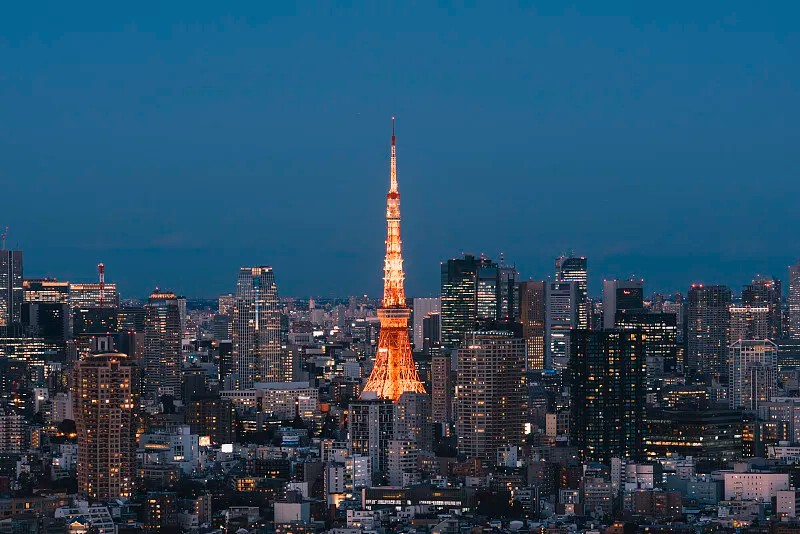Tokyo: (359, 115, 431, 405)
